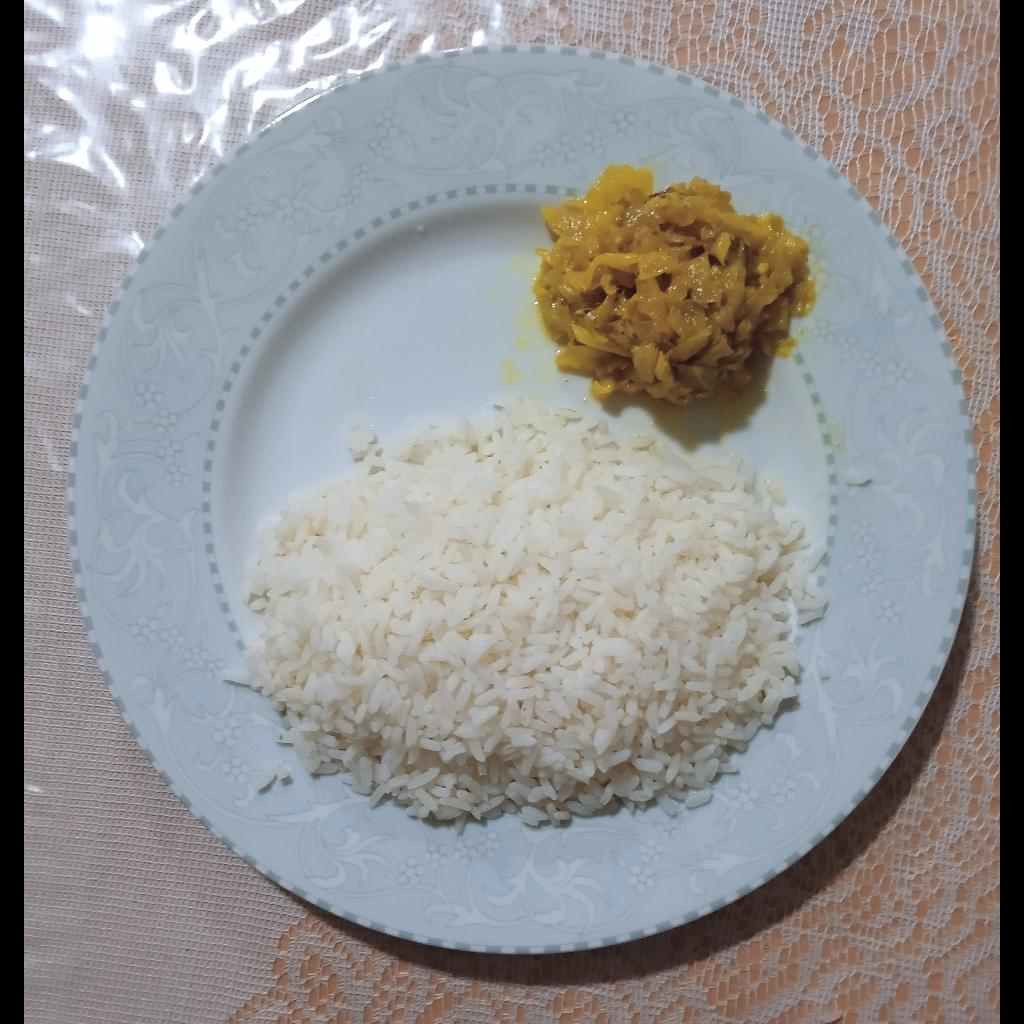cabbage: (538, 158, 808, 393)
rice: (237, 419, 833, 826)
